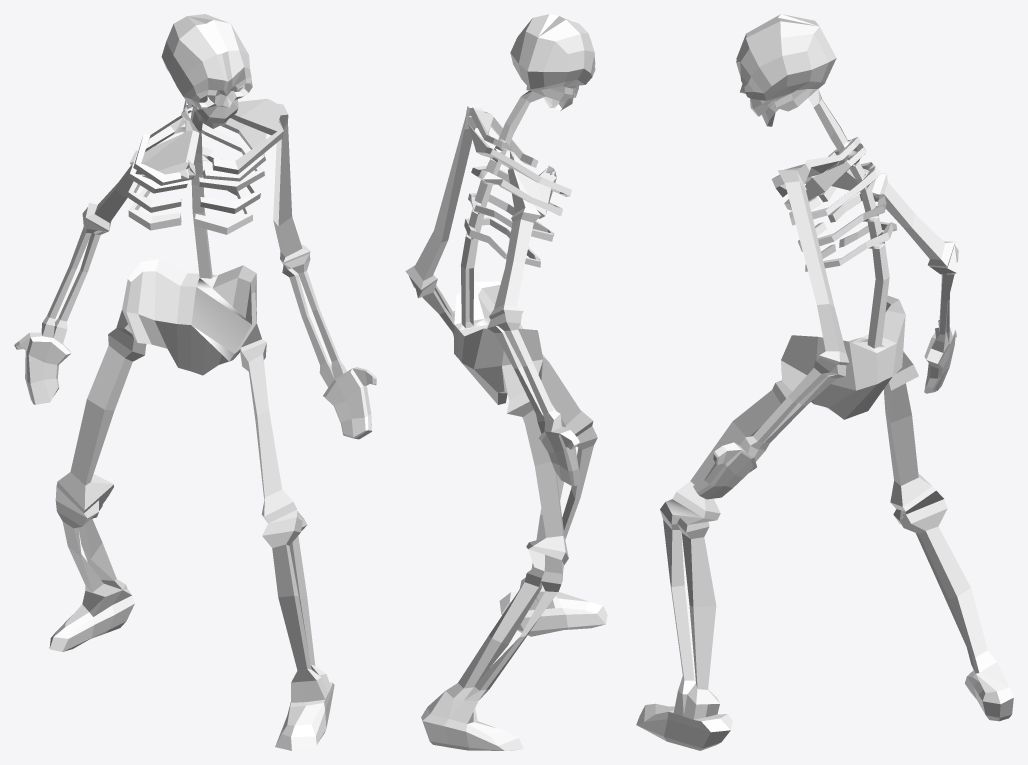
The model's file is SkeletonIdle(102).obj.
3 renders of one model, left to right at view 1: azimuth 30°, elevation 25°; view 2: azimuth 150°, elevation 25°; view 3: azimuth 270°, elevation 25°, orthographic. The views are drawn at different scales.
Parts seen in each view (by area): view 1: Object002; view 2: Object002; view 3: Object002.
Boxes of the visible parts, <box> form: Object002: <box>14,14,376,750</box>; Object002: <box>405,14,607,750</box>; Object002: <box>636,14,1013,750</box>.
Size of the model in its own units: 423 by 1125 by 554.
